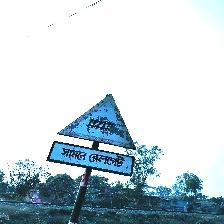Rail-crossing: (48, 94, 137, 176)
